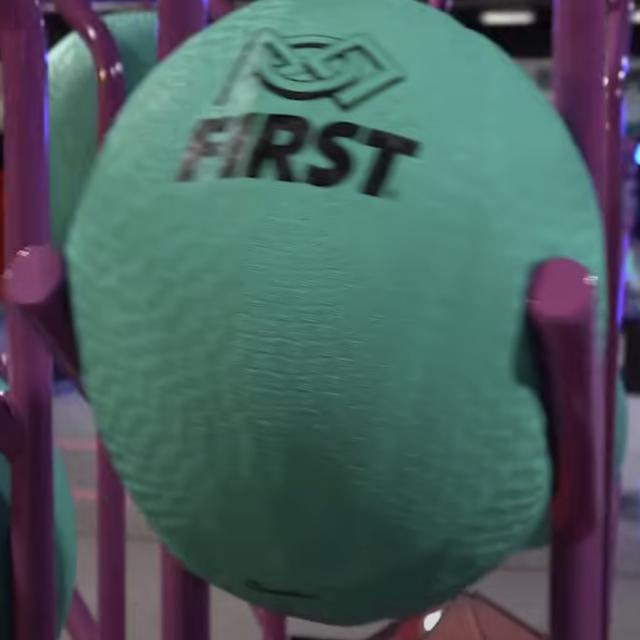Algae: (64, 0, 604, 625), (46, 12, 156, 244), (0, 378, 74, 640), (530, 364, 630, 548)
Reef: (528, 258, 600, 507), (5, 246, 79, 384)
